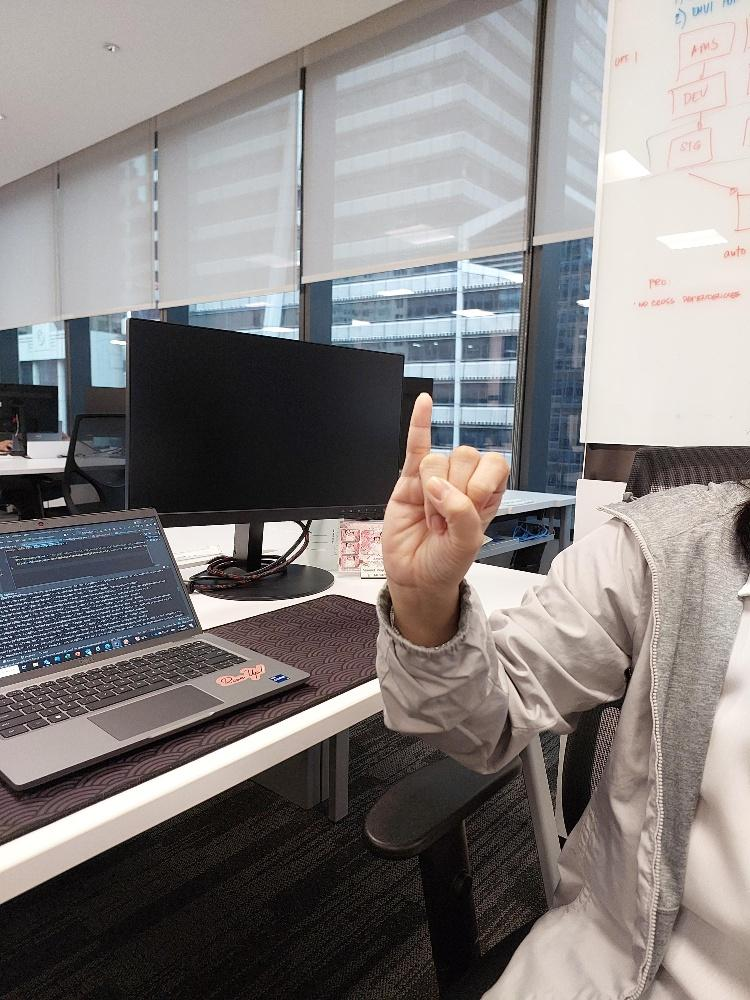i: (380, 390, 509, 585)
